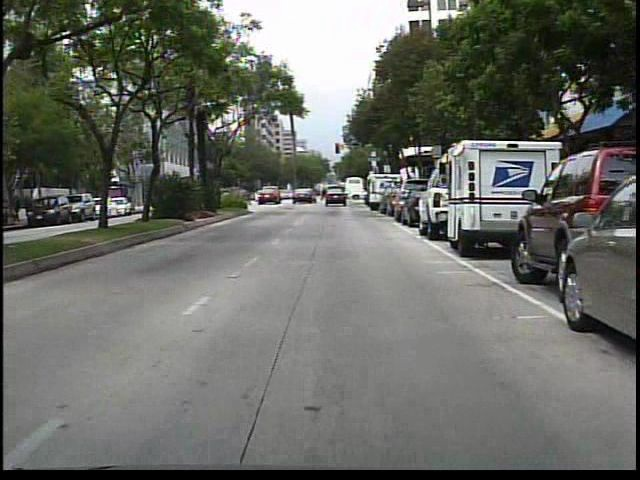person: (290, 182, 307, 206), (320, 183, 333, 203)
